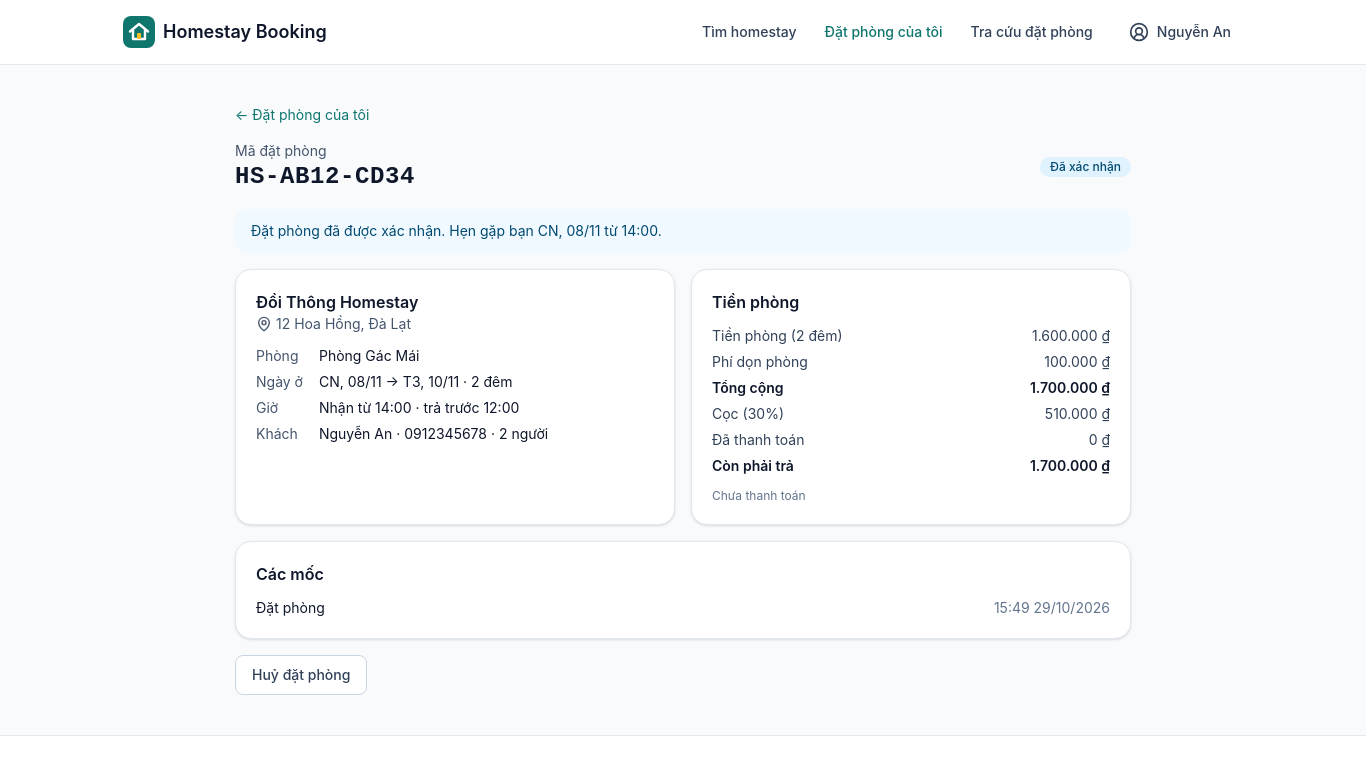
đặt phòng của tôi › không được huỷ (đã tới ngày nhận phòng) → nêu lý do, khoá nút xác nhận
The width and height of the screenshot is (1366, 762).
Click the button "Huỷ đặt phòng" at (301, 675), box [235,655,367,695]
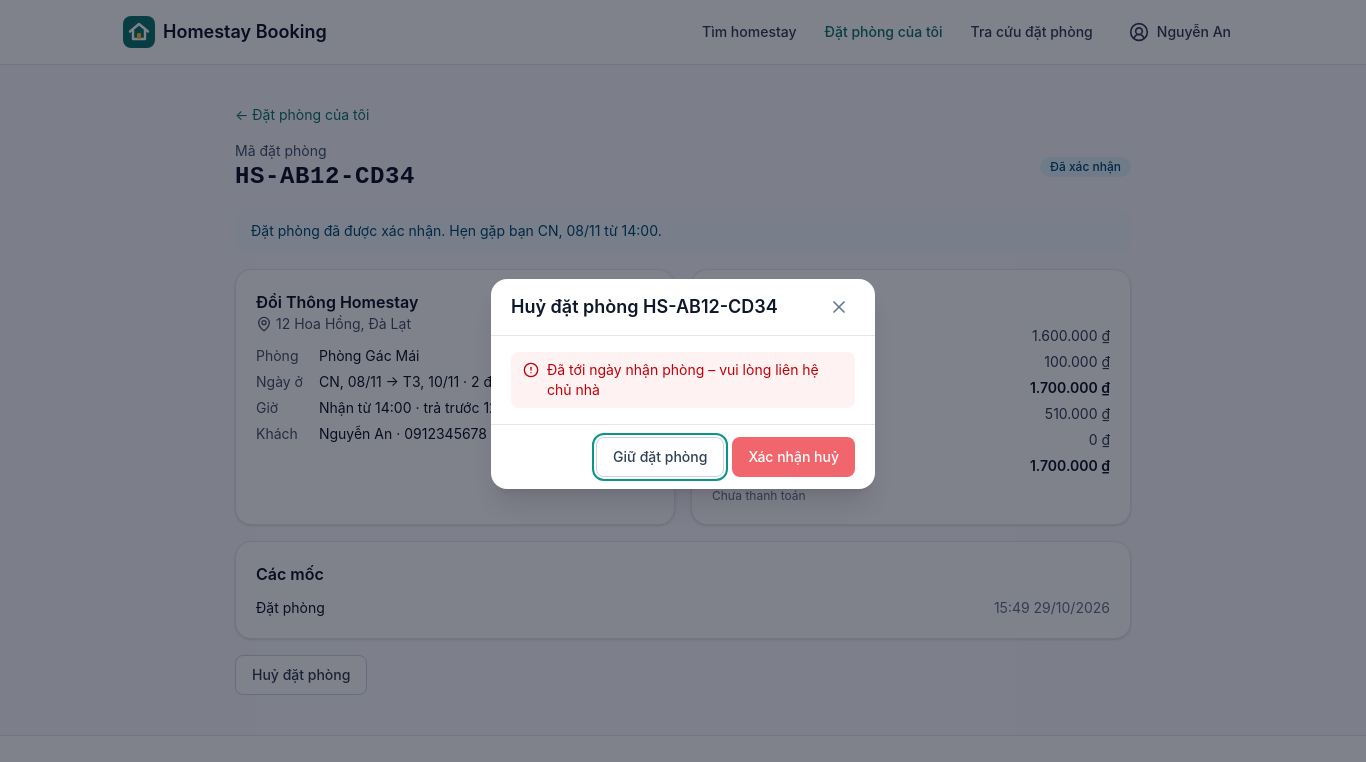
Check: the text "Đã tới ngày nhận phòng – vui lòng liên hệ chủ nhà" is shown, box [547,360,843,400]
Check: the button "Xác nhận huỷ" is disabled, box [732,437,855,477]
